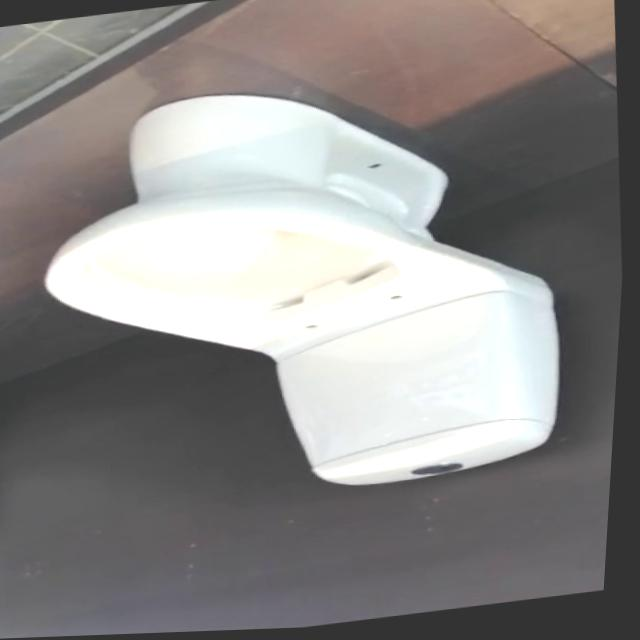toilet: (23, 56, 590, 527)
